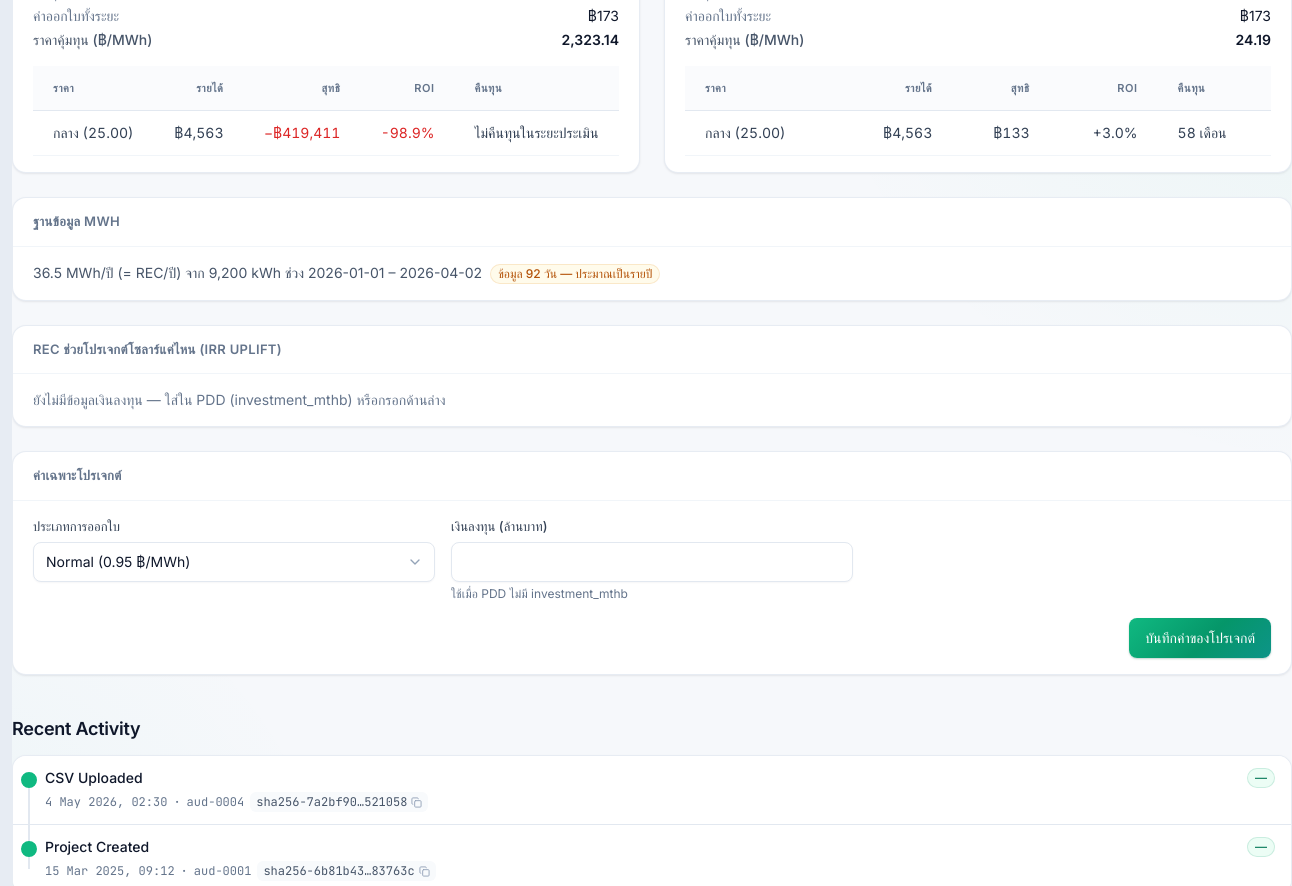
ProjectDetail — REC ROI tab › saving a manual investment shows IRR without vs with REC
This screenshot has width=1292, height=886.
(page scrolled)
Type "1" into the number field labelled "เงินลงทุน (ล้านบาท)" at (652, 562), box [451,542,853,582]
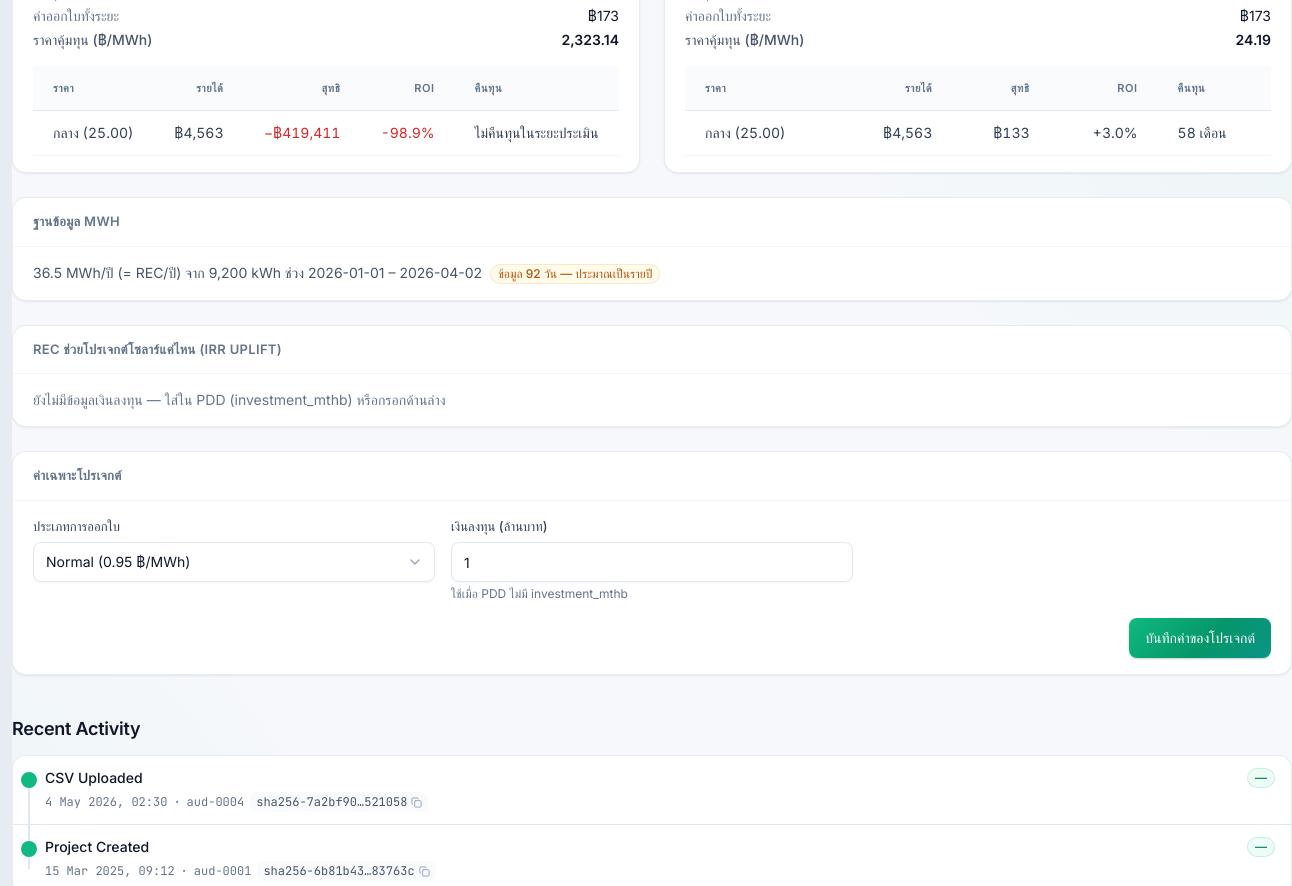
Click the button "บันทึกค่าของโปรเจกต์" at (1200, 638), box [1129,618,1271,658]
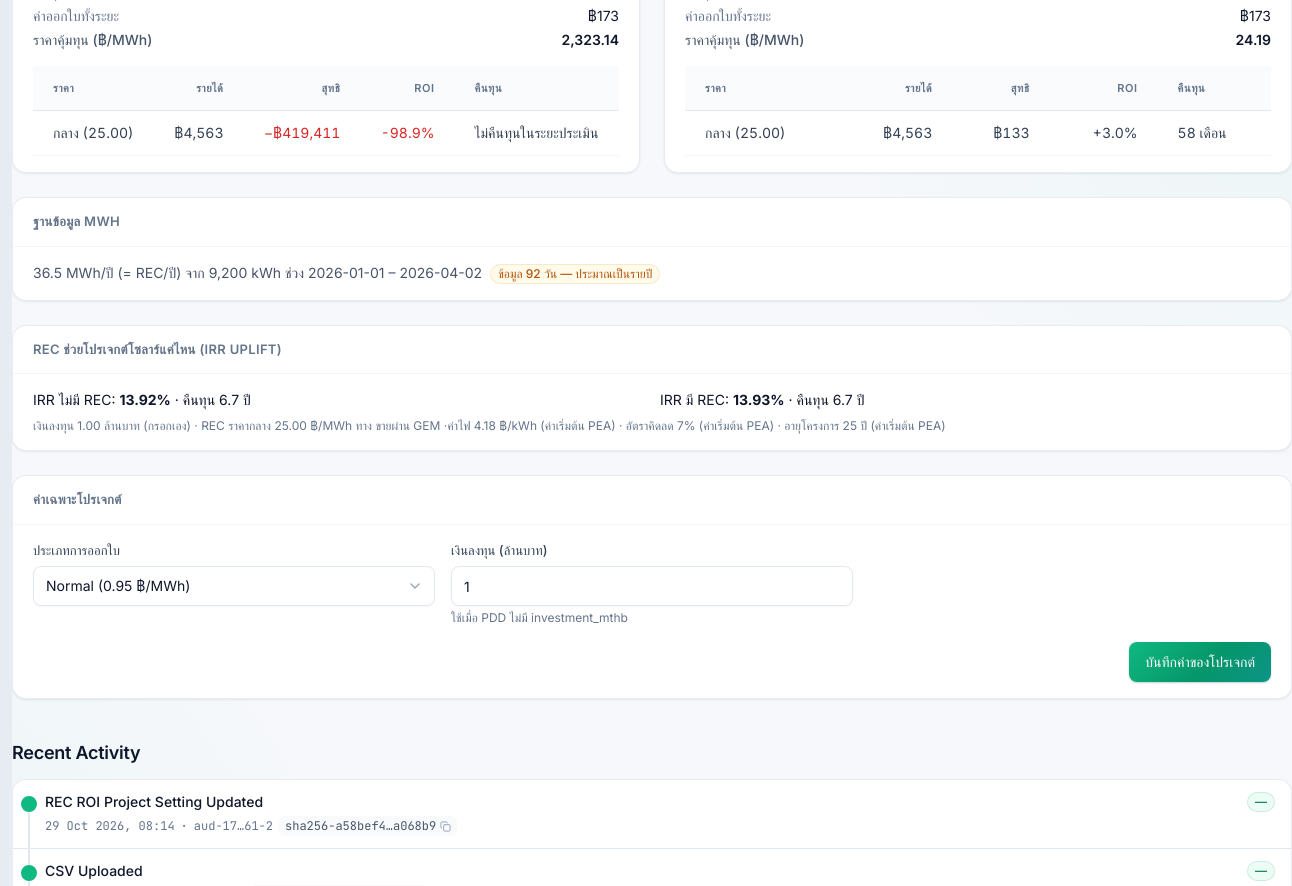
Now the text "IRR ไม่มี REC: 13.92% · คืนทุน 6.7 ปี" is shown, box [33,391,251,408]
Now the text "IRR มี REC: 13.93% · คืนทุน 6.7 ปี" is shown, box [660,391,864,408]
Now the text "กรอกเอง" is shown, box [148,418,187,433]
